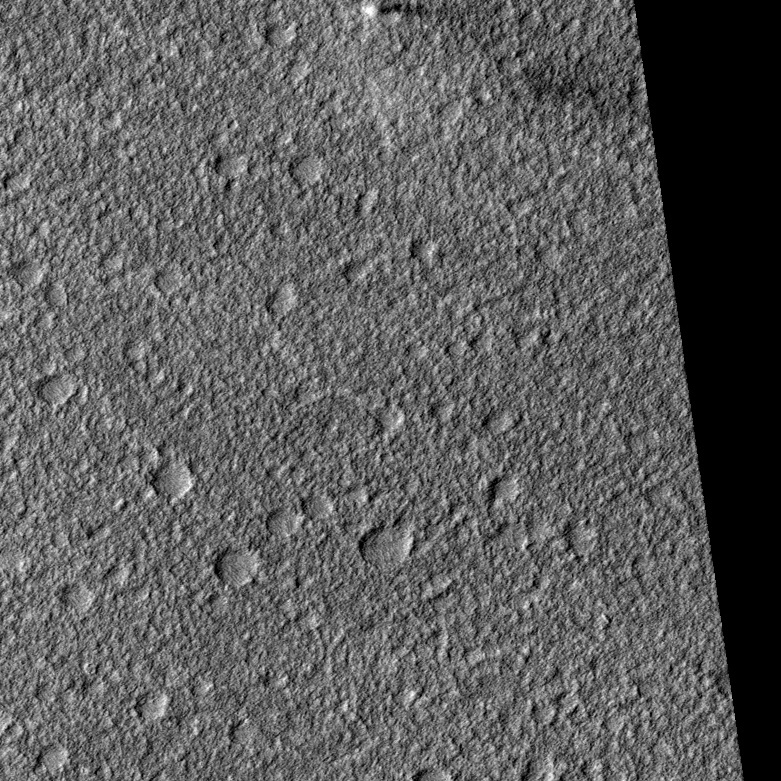dust_devil: (360, 0, 433, 20)
